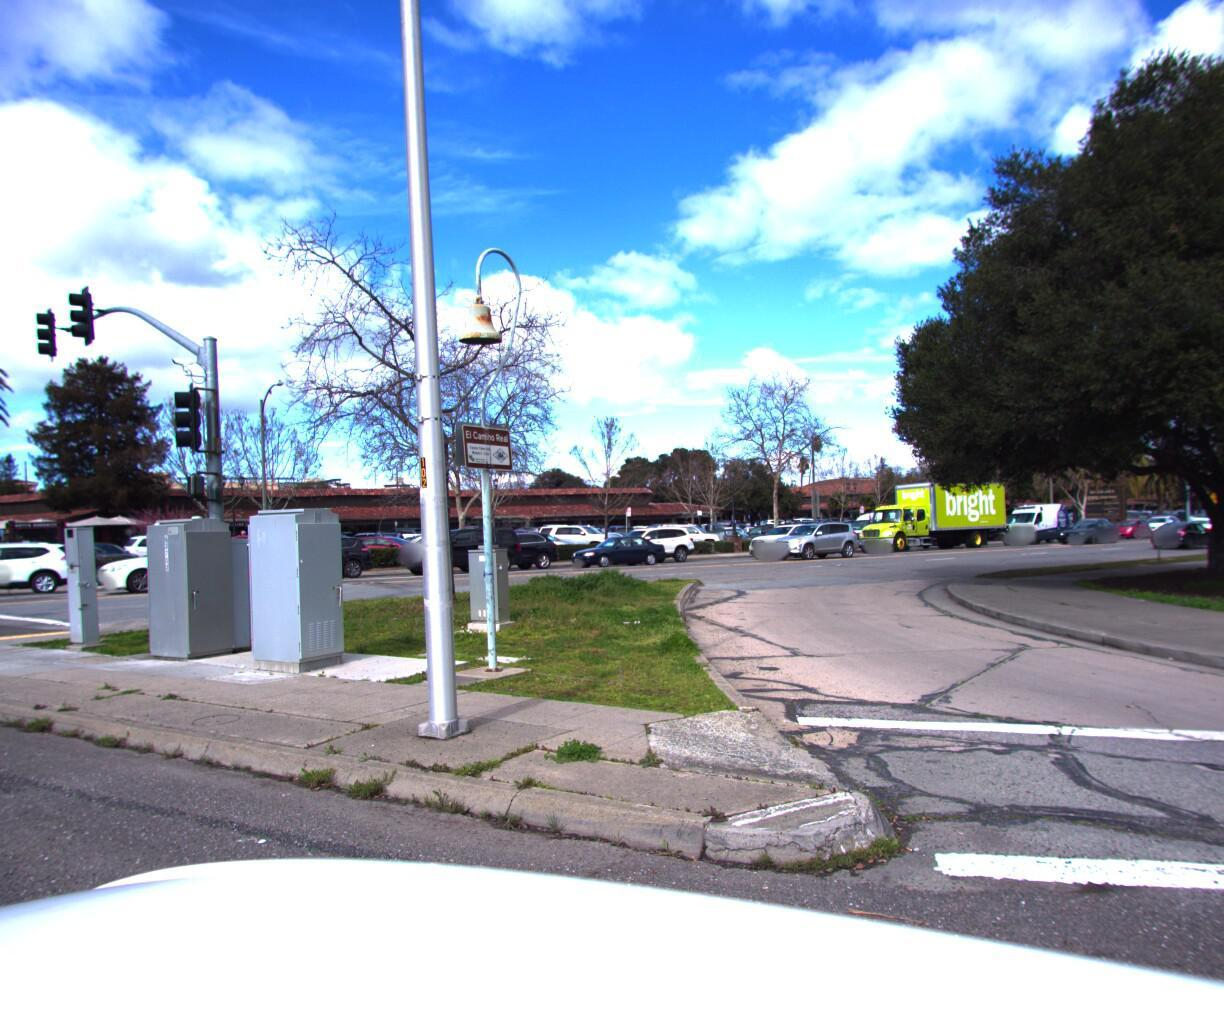car: (2, 537, 215, 605), (386, 524, 530, 579), (245, 534, 381, 584), (71, 540, 181, 583), (455, 533, 567, 574), (561, 529, 675, 567), (598, 522, 700, 564), (762, 519, 863, 561), (126, 528, 231, 567), (741, 521, 840, 559), (339, 528, 439, 564), (403, 530, 500, 562), (831, 513, 907, 550), (534, 520, 624, 551), (499, 528, 589, 559), (994, 500, 1070, 534), (652, 520, 731, 548), (1145, 520, 1216, 550), (1052, 516, 1119, 544), (1099, 516, 1158, 544), (1133, 513, 1187, 539), (1207, 519, 1224, 548)
truck: (840, 484, 1011, 560)
